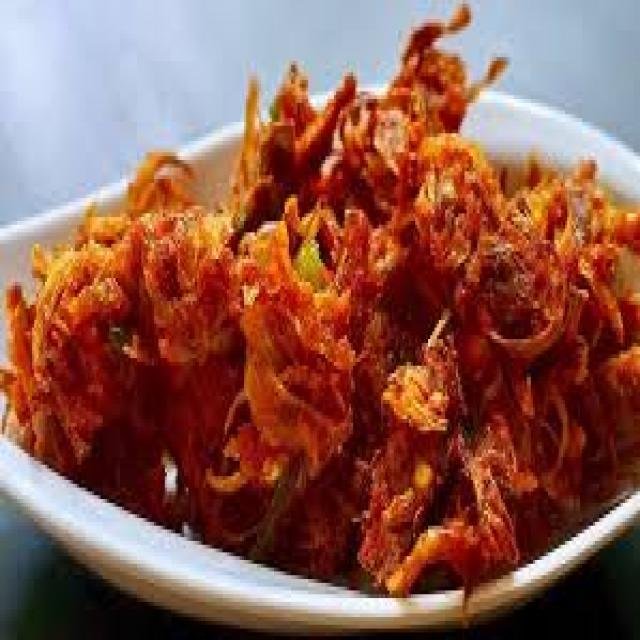BAJI: (5, 18, 638, 597)
